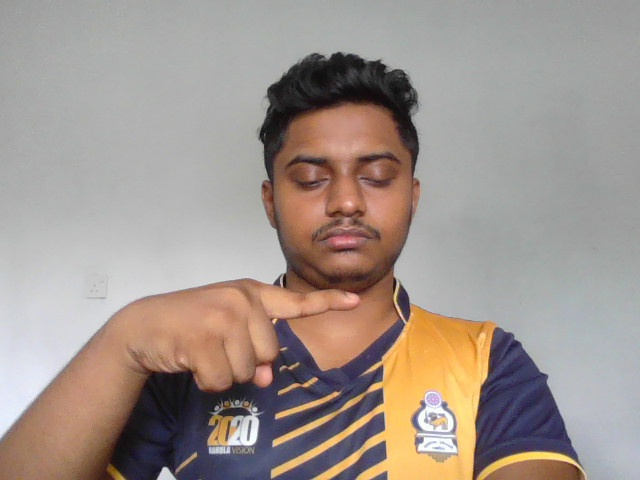Going To: (126, 277, 366, 399)
